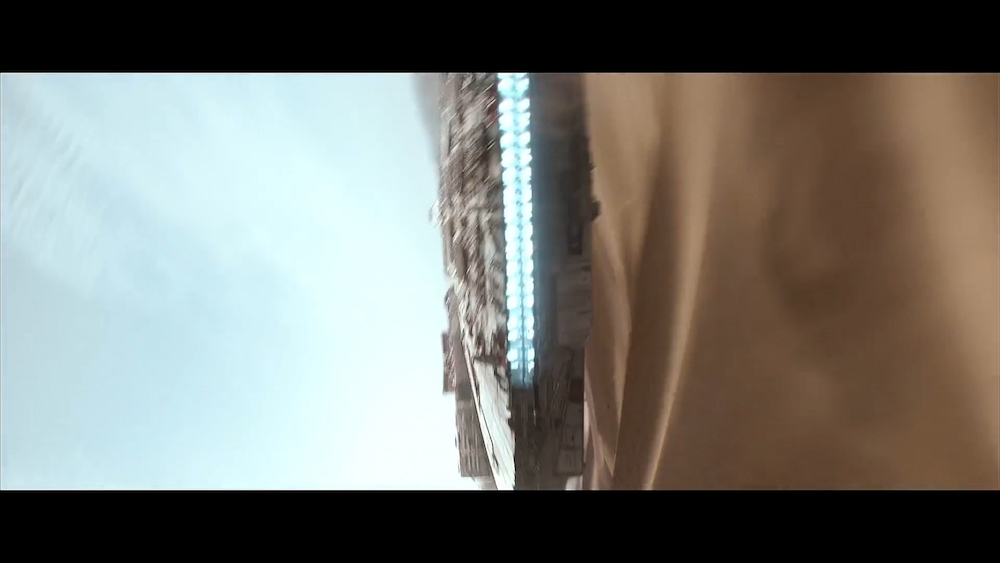Millennium Falcon: (433, 75, 594, 490)
